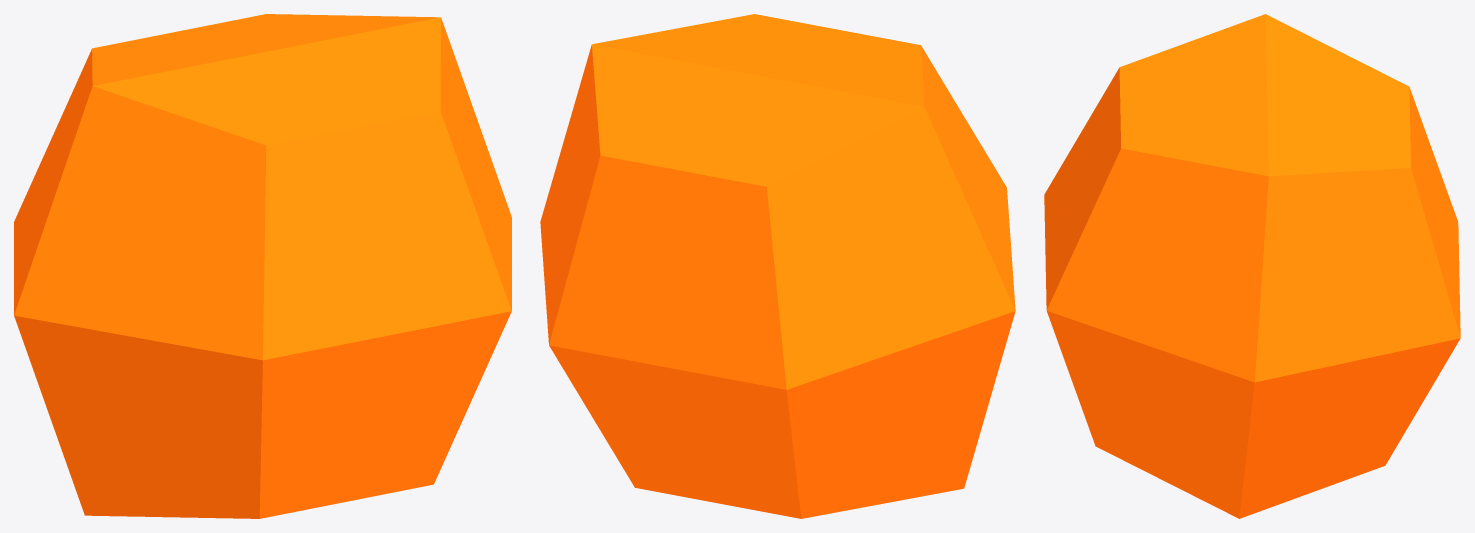
3 views of the same model, side by side, from view 1: azimuth 30°, elevation 25°; view 2: azimuth 150°, elevation 25°; view 3: azimuth 270°, elevation 25° (orthographic). The views are drawn at different scales.
Parts seen in each view (by area): view 1: Cube; view 2: Cube; view 3: Cube.
Boxes of the visible parts, box(x1,y1,x2,y2) form: Cube: box(14, 14, 511, 518); Cube: box(540, 14, 1015, 518); Cube: box(1044, 14, 1460, 518).
Bounding box in the file's own units: 208 × 170 × 174.
